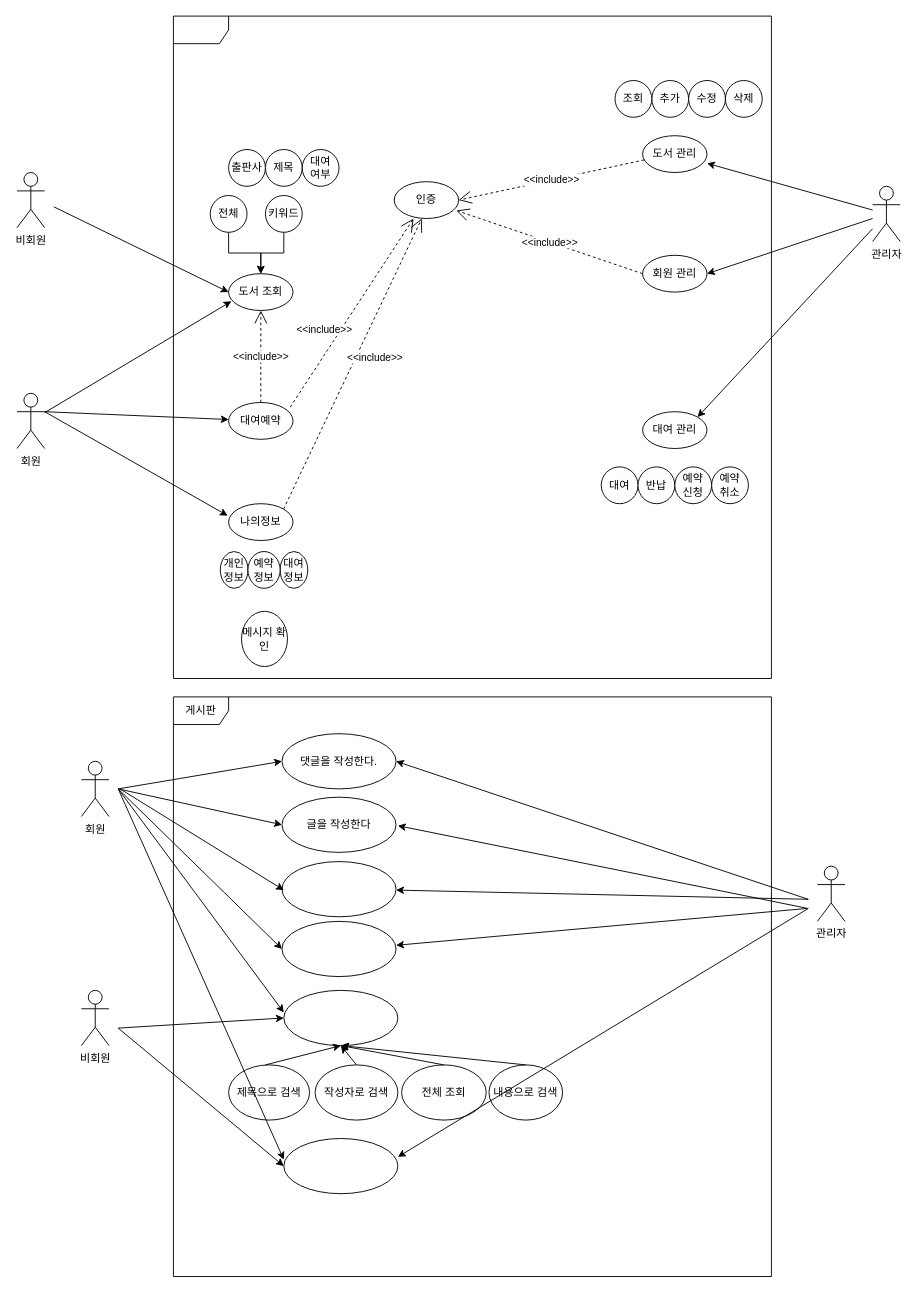
Image size: 917x1293. Some labels were removed from this diagram. The shapes that lost their labels are listed below. From the top down, each one's centre as x and y in pixels, then its label:
At point (471, 346): "도서관리".
At point (338, 889): "글을 수정한다".
At point (338, 948): "글을 삭제한다".
At point (340, 1017): "글을 조회한다".
At point (340, 1166): "글을 검색한다".
